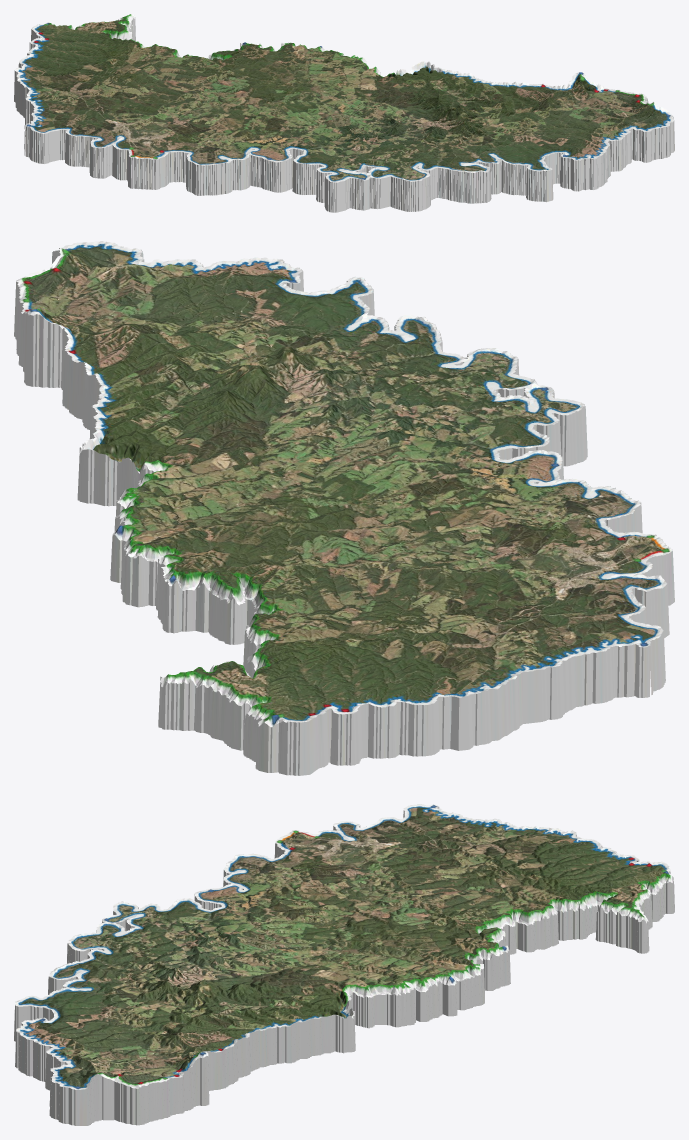
The picture shows the model from 3 angles, top to bottom: view 1: azimuth 30°, elevation 25°; view 2: azimuth 150°, elevation 25°; view 3: azimuth 270°, elevation 25°; orthographic projection. The views are drawn at different scales.
Bounding box in the file's own units: 1 × 0.0821 × 0.9741.
1 material, 1 textured.
